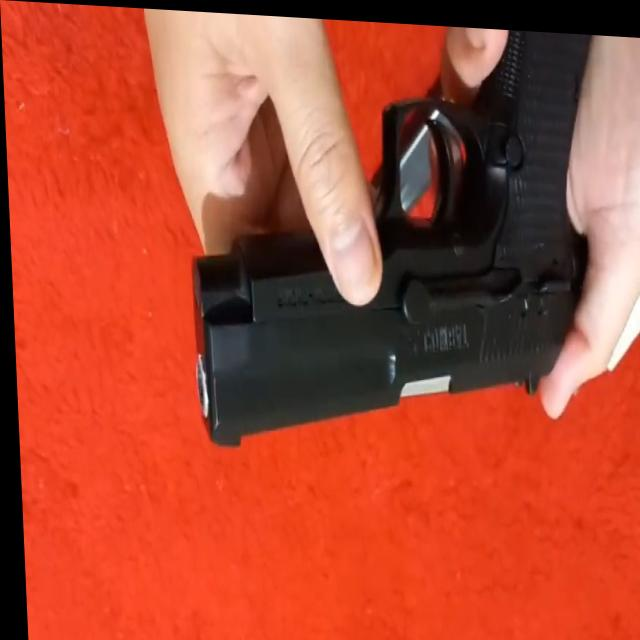handgun: (176, 8, 598, 470)
